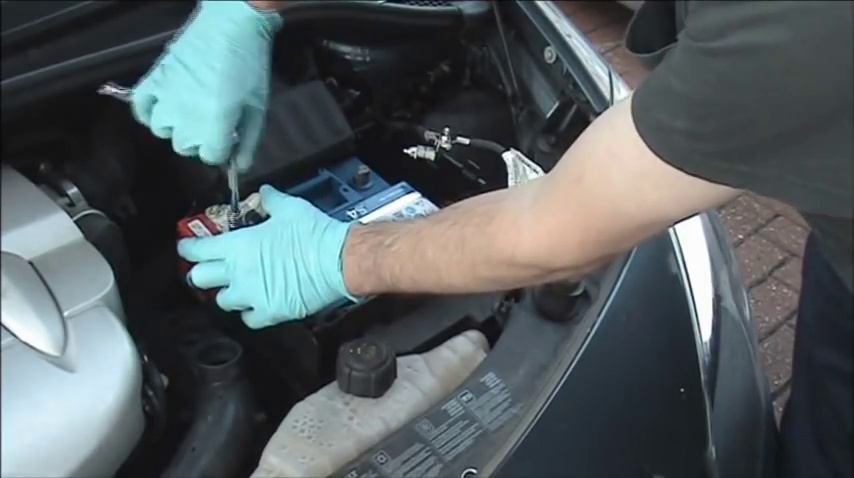battery: (173, 148, 448, 275)
neg_disconnected: (331, 160, 392, 197)
pos_touched: (167, 131, 282, 293)
